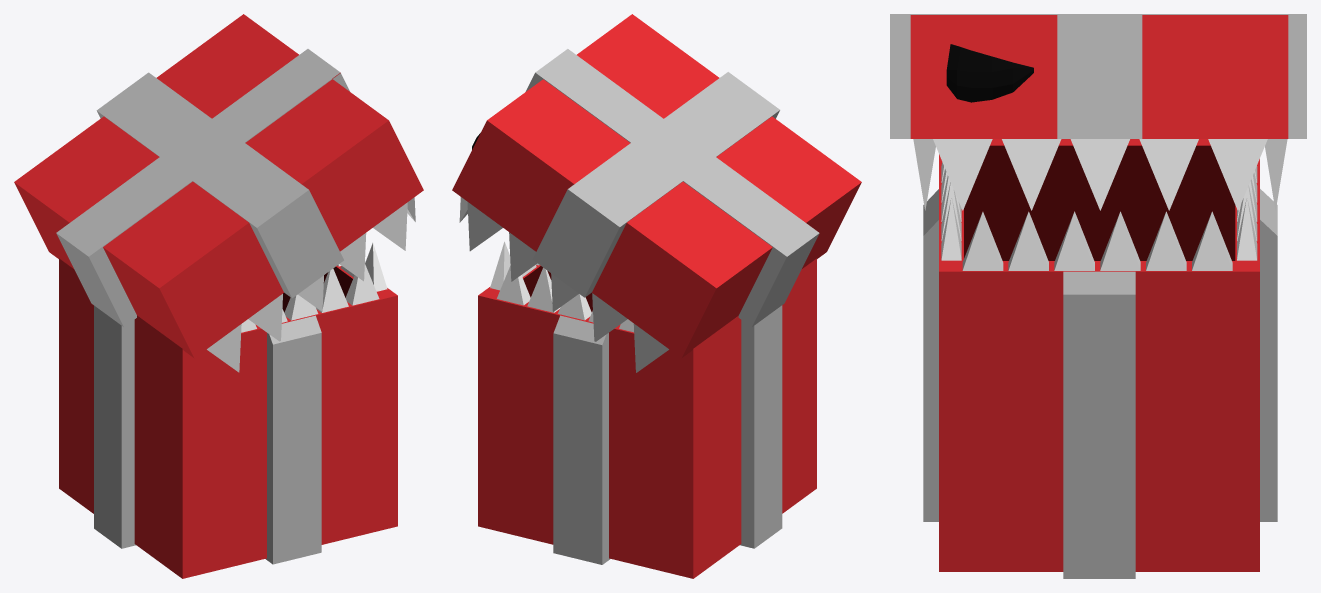
Rendered from RegaloRojo.fbx.
The picture shows the model from 3 angles, left to right: view 1: azimuth 30°, elevation 25°; view 2: azimuth 150°, elevation 25°; view 3: azimuth 270°, elevation 25°; orthographic projection. The views are drawn at different scales.
Visible parts, largest first — view 1: Cube.007, Cube.004; view 2: Cube.007, Cube.004; view 3: Cube.004, Cube.007.
Part boxes in pixels (x1,y1,x2,y2): Cube.007: (14,14,423,372); Cube.004: (59,243,397,578); Cube.007: (452,14,861,372); Cube.004: (478,241,816,578); Cube.004: (923,139,1277,578); Cube.007: (890,14,1306,210).
Bounding box in the file's own units: 10.46 × 14.62 × 10.
